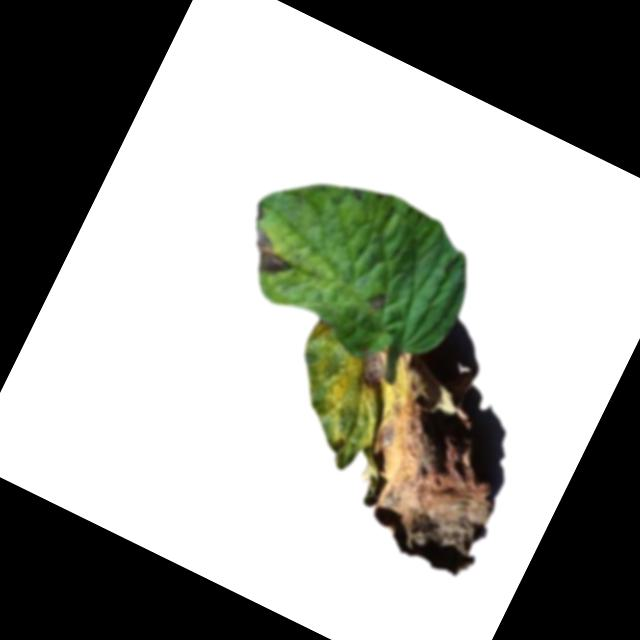Early_blight: (240, 310, 545, 583), (231, 205, 313, 286), (368, 288, 390, 312)
